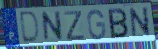B: (107, 7, 129, 40)
D: (20, 10, 41, 45)
G: (86, 8, 107, 41)
N: (128, 6, 152, 39), (41, 10, 64, 43)
Z: (63, 10, 86, 42)
